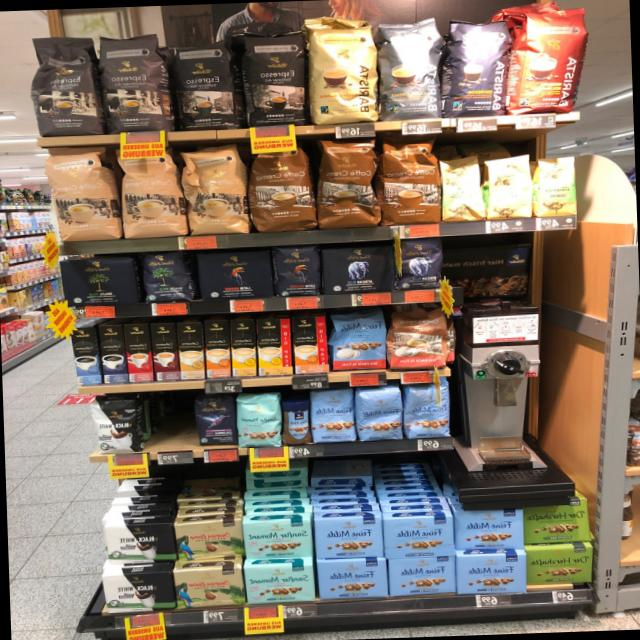AB Bohne: (391, 237, 444, 290)
AB Gemahlen: (318, 242, 394, 297)
Athiopien Bohne: (529, 155, 580, 218)
Athiopien Gemahlen: (438, 154, 487, 224), (484, 155, 534, 221)
BM Bohne: (141, 252, 193, 306)
BM Gemahlen: (59, 256, 140, 314)
BW Bohne: (89, 396, 143, 456)
BW Gemahlen: (100, 566, 174, 614), (102, 521, 180, 563)
Barista CB: (304, 22, 382, 126)
Barista CC: (374, 14, 446, 122)
Barista Espresso: (439, 14, 513, 119)
Barista Kolumbien: (502, 3, 594, 120)
C Fino Bohne: (194, 392, 236, 448)
CC Mild: (43, 146, 122, 244), (180, 145, 250, 238), (117, 155, 189, 240)
CC Vollmundig: (384, 308, 454, 373)
CC Vollmundig 36 Pads: (313, 139, 385, 230), (376, 138, 446, 227), (245, 148, 317, 234)
Colombia BB Gemahlen: (173, 565, 244, 609), (173, 516, 245, 559)
Empty Shelf: (149, 396, 195, 446)
Espresso M Art: (97, 31, 171, 136), (28, 32, 100, 139)
Espresso S Art: (241, 28, 310, 128), (170, 39, 243, 131)
FM 36 Pads: (326, 310, 389, 372)
FM Bohne: (354, 382, 404, 443), (402, 381, 452, 440), (308, 385, 356, 446)
FM Gemahlen: (316, 556, 389, 600), (456, 552, 530, 595), (453, 507, 524, 551), (383, 514, 455, 557), (313, 516, 385, 558), (386, 554, 458, 596)
FM Instant: (278, 398, 316, 448)
Herzhatfe Mundig: (519, 496, 590, 544), (525, 546, 595, 586)
LG Bohne: (273, 245, 322, 299)
LG Gemahlen: (198, 250, 276, 302)
SM Bohne: (234, 390, 284, 450)
SM Gemahlen: (242, 561, 318, 604), (242, 518, 313, 559)
Simo CCMild: (254, 316, 293, 376)
Simo CCMild bigpack: (228, 317, 258, 378)
Simo CCVollmundig: (290, 314, 329, 375)
Simo CCVollmundig bigpack: (202, 317, 231, 379)
Simo Decaff: (174, 320, 207, 382)
Simo Es Elegant: (123, 322, 154, 382)
Simo Es Kraft: (149, 321, 180, 381)
Simo Kaffee Kraft: (94, 324, 128, 386)
Simo Kaffee Mild: (69, 325, 102, 386)
